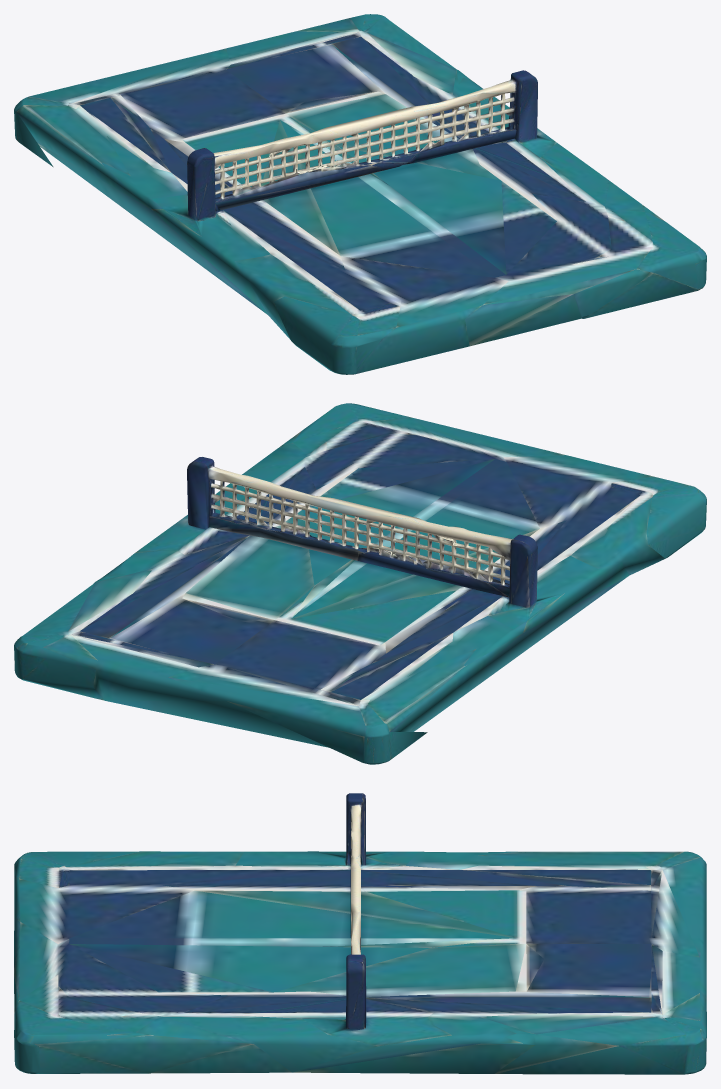
The model's file is tennis-court-512.glb.
3 views of the same model, one above another, from view 1: azimuth 30°, elevation 25°; view 2: azimuth 150°, elevation 25°; view 3: azimuth 270°, elevation 25° (orthographic). The views are drawn at different scales.
Size of the model in its own units: 1.23 by 0.3168 by 1.9.
Materials: 1 (1 with a texture image).
